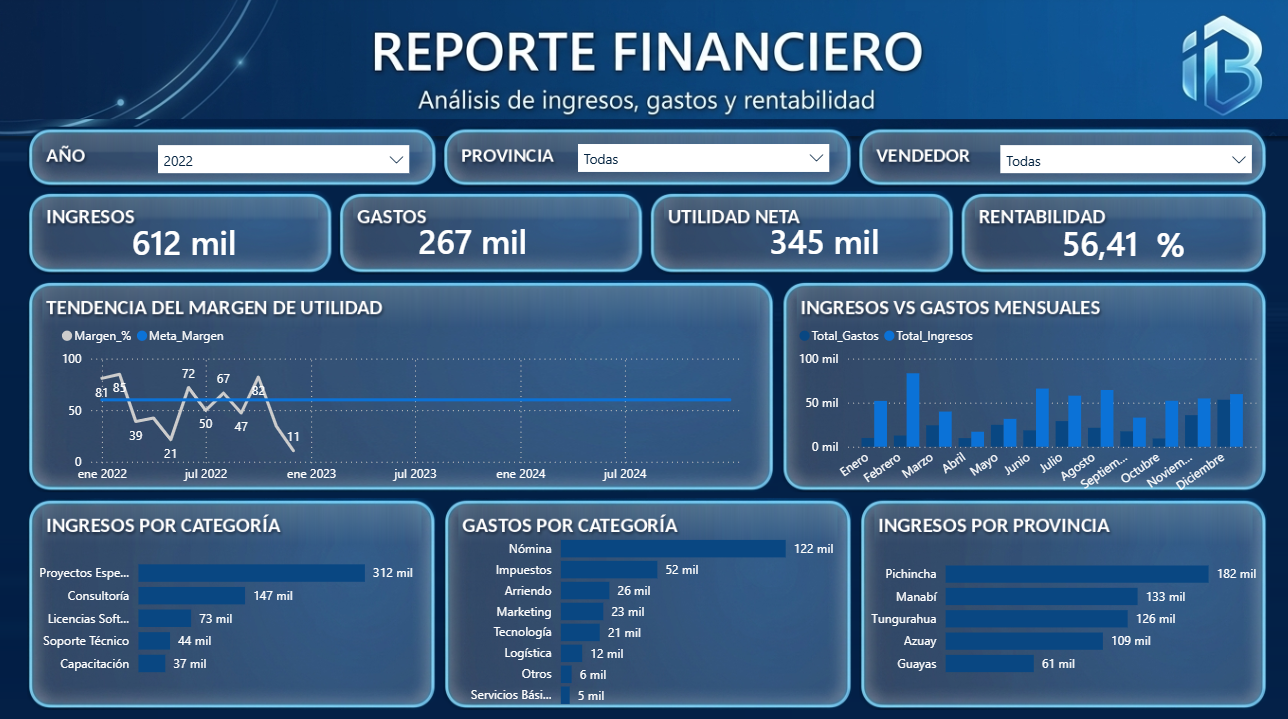

This screenshot's page, from the dashboard's own definition file:
{"tool":"powerbi","page":{"name":"Página 1","canvas":[1280,720],"ordinal":0},"visuals":[{"type":"cardVisual","title":"INGRESOS","fields":{"Data":["Gastos.Total_Ingresos"]},"box":[105,205,215,70],"z":0},{"type":"cardVisual","title":" GASTOS","fields":{"Data":["Gastos.Total_Gastos"]},"box":[386.7,196.7,215.7,85.7],"z":1000},{"type":"cardVisual","title":"UTILIDAD NETA","fields":{"Data":["Gastos.Utilidad_Neta"]},"box":[731.7,191.7,192.9,95.7],"z":2000},{"type":"cardVisual","title":"MARGEN DE RENTABILIDAD","fields":{"Data":["Gastos.Margen_%"]},"box":[1018.3,193.3,190,95.7],"z":3000},{"type":"clusteredColumnChart","title":"INGRESOS VS GASTOS MENSUALES","fields":{"Category":["Resumen_Mensual.Mes"],"Y":["Gastos.Total_Gastos","Gastos.Total_Ingresos"]},"box":[784.5,314.1,459.2,184.5],"z":4000},{"type":"clusteredBarChart","title":"GASTOS POR CATEGORÍA","fields":{"Category":["Gastos.Categoría"],"Y":["Gastos.Total_Gastos"]},"box":[446.5,512.7,385.9,195.8],"z":5000},{"type":"clusteredBarChart","title":"INGRESOS POR CATEGORÍA","fields":{"Category":["Ingresos.Categoría"],"Y":["Gastos.Total_Ingresos"]},"box":[26.8,536.6,404.2,142.3],"z":6000},{"type":"lineChart","title":"TENDENCIA DEL MARGEN DE UTILIDAD ","fields":{"Category":["Resumen_Mensual.Fecha_Mes.Variation.Jerarquía de fechas.Año","Resumen_Mensual.Fecha_Mes.Variation.Jerarquía de fechas.Trimestre","Resumen_Mensual.Fecha_Mes.Variation.Jerarquía de fechas.Mes","Resumen_Mensual.Fecha_Mes.Variation.Jerarquía de fechas.Día"],"Y":["Gastos.Margen_%","Gastos.Meta_Margen"]},"box":[60.6,314.1,687.3,173.2],"z":7000},{"type":"slicer","title":"AÑO","fields":{"Values":["Resumen_Mensual.Año"]},"box":[150,136.7,266.7,45],"z":8000},{"type":"slicer","title":"PROVINCIA","fields":{"Values":["Ingresos.Región"]},"box":[561.7,135,266.7,50],"z":9000},{"type":"slicer","title":"VENDEDOR","fields":{"Values":["Ingresos.Vendedor"]},"box":[976.7,136.7,266.7,53.3],"z":10000},{"type":"clusteredBarChart","title":"INGRESOS POR PROVINCIA","fields":{"Category":["Ingresos.Provincia "],"Y":["Gastos.Total_Ingresos"]},"box":[850.7,538,393,140.8],"z":11000},{"type":"textbox","box":[1135,216.7,80,60],"z":12000}]}

Visuals, with their boxes in screenshot pixels (x1, y1, x2, y2), scaled from the page's 1280x720 canvas onto the 1288x719 screenshot:
"INGRESOS" cardVisual: 106:205:322:275
" GASTOS" cardVisual: 389:196:606:282
"UTILIDAD NETA" cardVisual: 736:191:930:287
"MARGEN DE RENTABILIDAD" cardVisual: 1025:193:1216:289
"INGRESOS VS GASTOS MENSUALES" clusteredColumnChart: 789:314:1251:498
"GASTOS POR CATEGORÍA" clusteredBarChart: 449:512:838:708
"INGRESOS POR CATEGORÍA" clusteredBarChart: 27:536:434:678
"TENDENCIA DEL MARGEN DE UTILIDAD " lineChart: 61:314:753:487
"AÑO" slicer: 151:137:419:181
"PROVINCIA" slicer: 565:135:834:185
"VENDEDOR" slicer: 983:137:1251:190
"INGRESOS POR PROVINCIA" clusteredBarChart: 856:537:1251:678
textbox: 1142:216:1223:276
